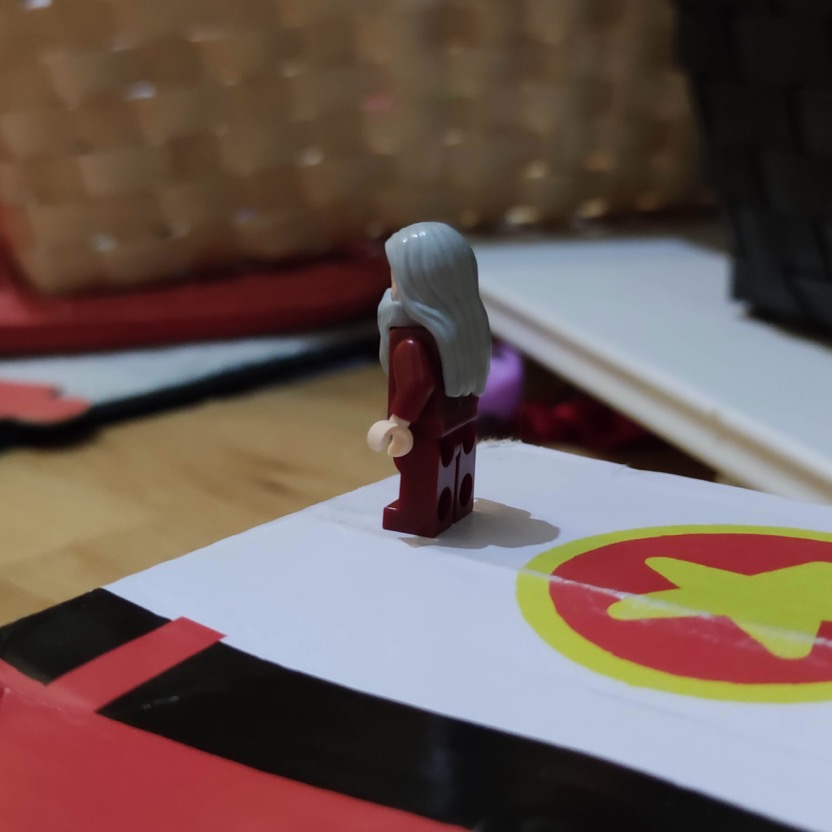lego: (366, 218, 494, 542)
